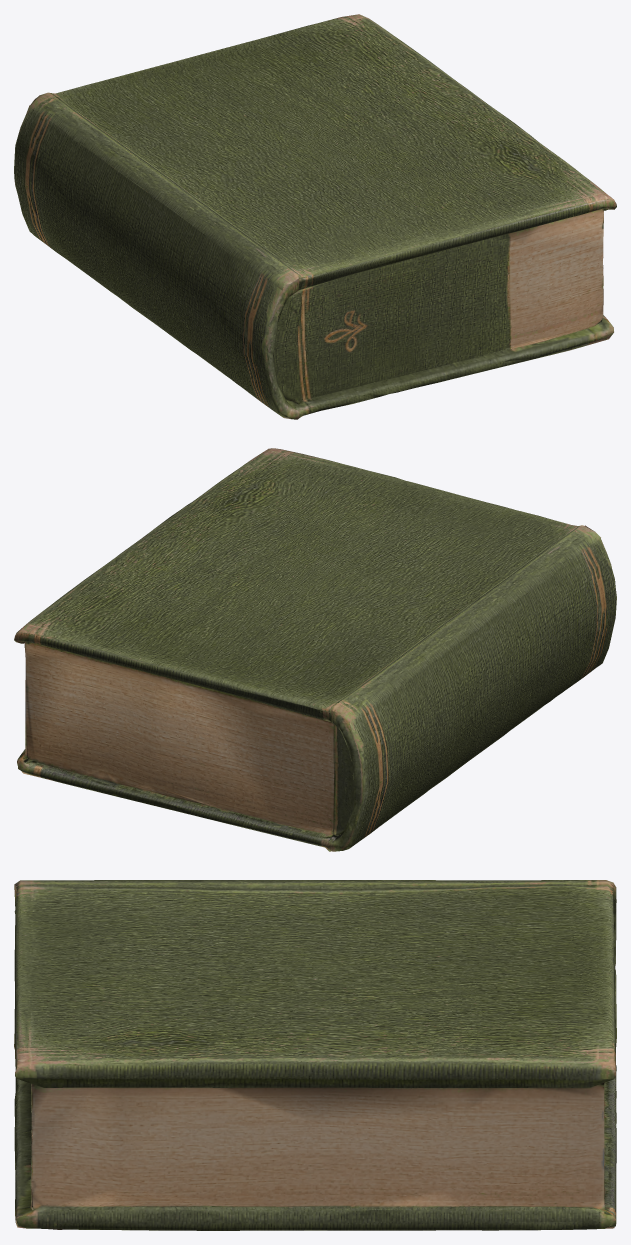
File: Prop_Book_Low.fbx
3 views of the same model, one above another, from view 1: azimuth 30°, elevation 25°; view 2: azimuth 150°, elevation 25°; view 3: azimuth 270°, elevation 25° (orthographic). The views are drawn at different scales.
Visible parts, largest first — view 1: texture_mapping; view 2: texture_mapping; view 3: texture_mapping.
Boxes of the visible parts, left/top/right/bottom form: texture_mapping: left=14, top=14, right=616, bottom=419; texture_mapping: left=14, top=448, right=616, bottom=851; texture_mapping: left=14, top=880, right=616, bottom=1230.
Size of the model in its own units: 0.7997 by 1 by 0.3233.
1 material, 1 textured.
